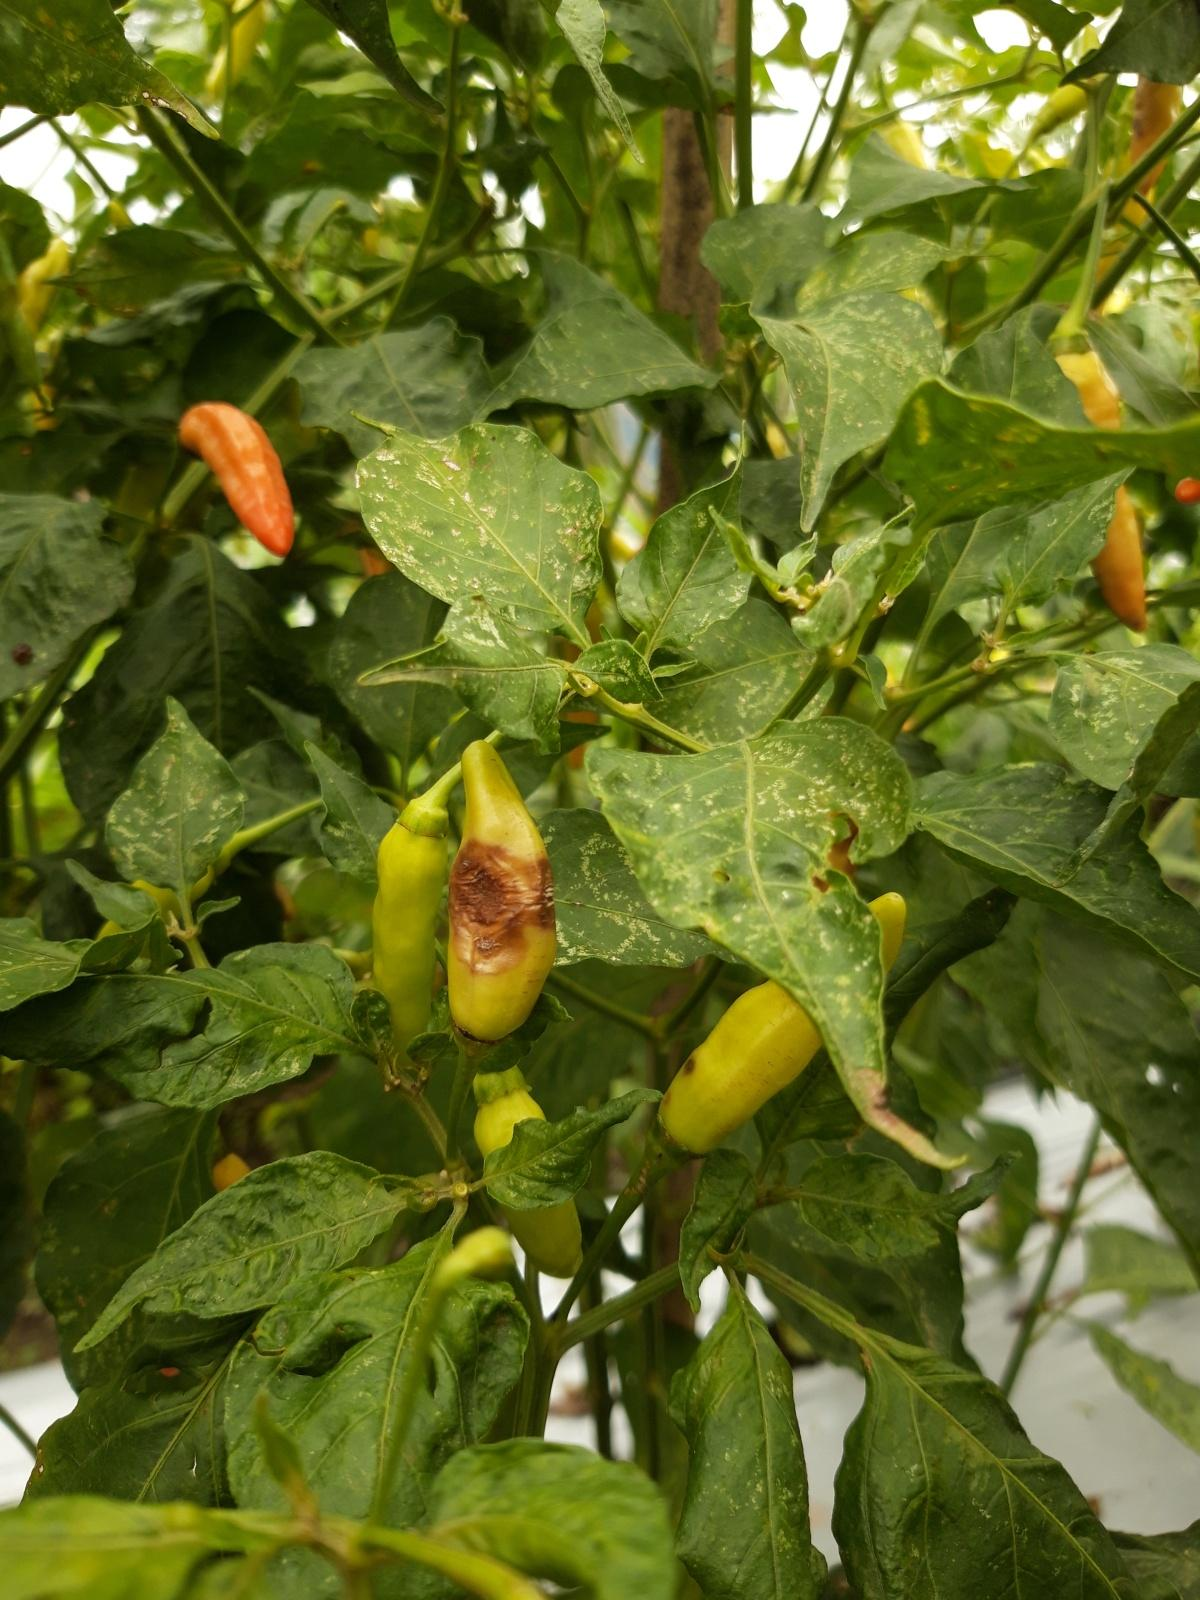cabai_normal: (1035, 330, 1145, 631), (372, 801, 447, 1070), (174, 399, 294, 557)
lalat_buah: (652, 889, 906, 1162), (446, 740, 557, 1061)
